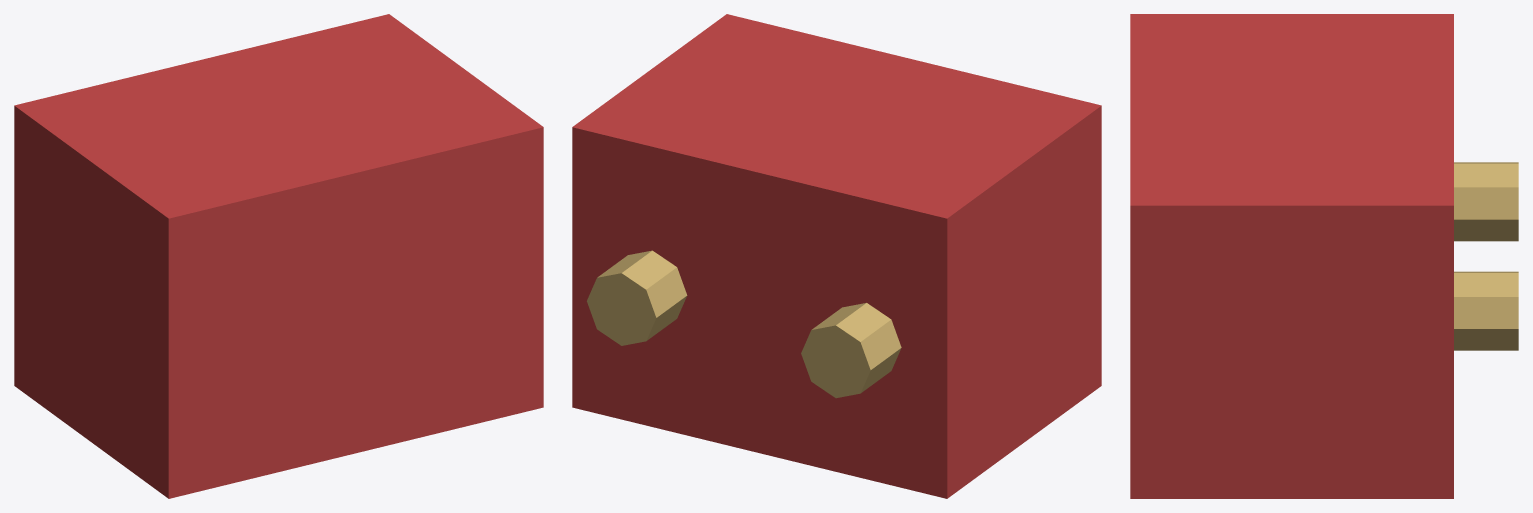
The picture shows the model from 3 angles, left to right: view 1: azimuth 30°, elevation 25°; view 2: azimuth 150°, elevation 25°; view 3: azimuth 270°, elevation 25°; orthographic projection. The views are drawn at different scales.
Visible parts, largest first — view 1: 000_RED; view 2: 000_RED, 001_GOLD, 002_GOLD; view 3: 000_RED, 001_GOLD, 002_GOLD.
Part boxes in pixels (x1,y1,x2,y2): 000_RED: (14, 14, 543, 498); 000_RED: (572, 14, 1101, 498); 001_GOLD: (801, 303, 901, 398); 002_GOLD: (587, 250, 687, 345); 000_RED: (1130, 14, 1453, 498); 001_GOLD: (1454, 162, 1518, 241); 002_GOLD: (1454, 271, 1518, 350).
Bounding box in the file's own units: 0.007 × 0.005 × 0.006.
